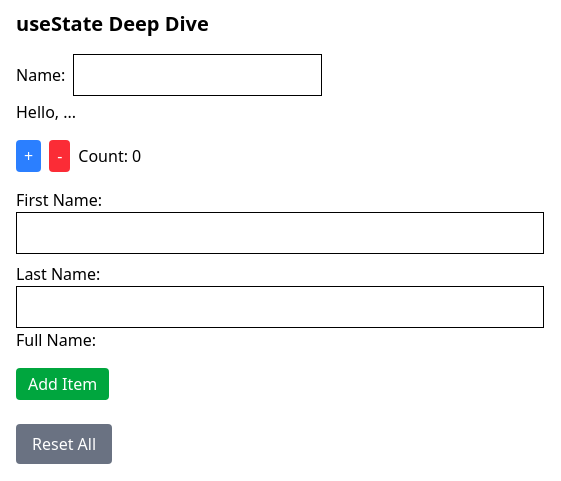
Test case: UseStateAdvanced › updates first and last name
Type "Alice" into the field labelled "First Name:". click: [280, 233]
box: [16,212,544,254]
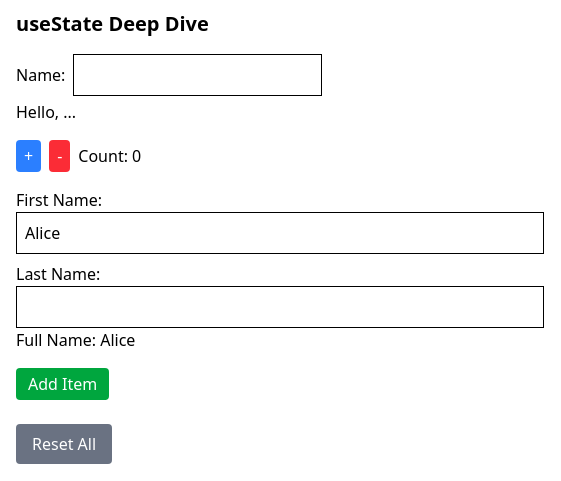
Type "Smith" into the field labelled "Last Name:". click: [280, 307]
box: [16,286,544,328]
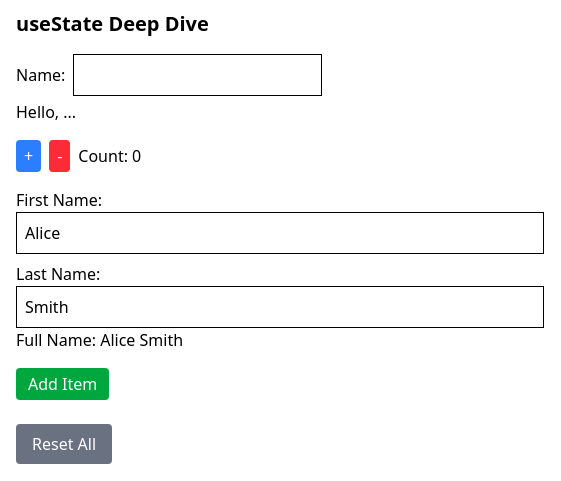
Expected: the text "Full Name: Alice Smith" is shown, [16,329,183,351]
